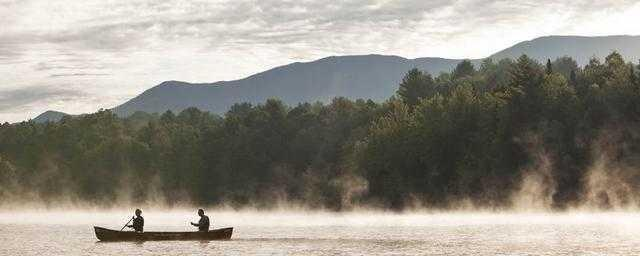kayak: (93, 224, 235, 243)
